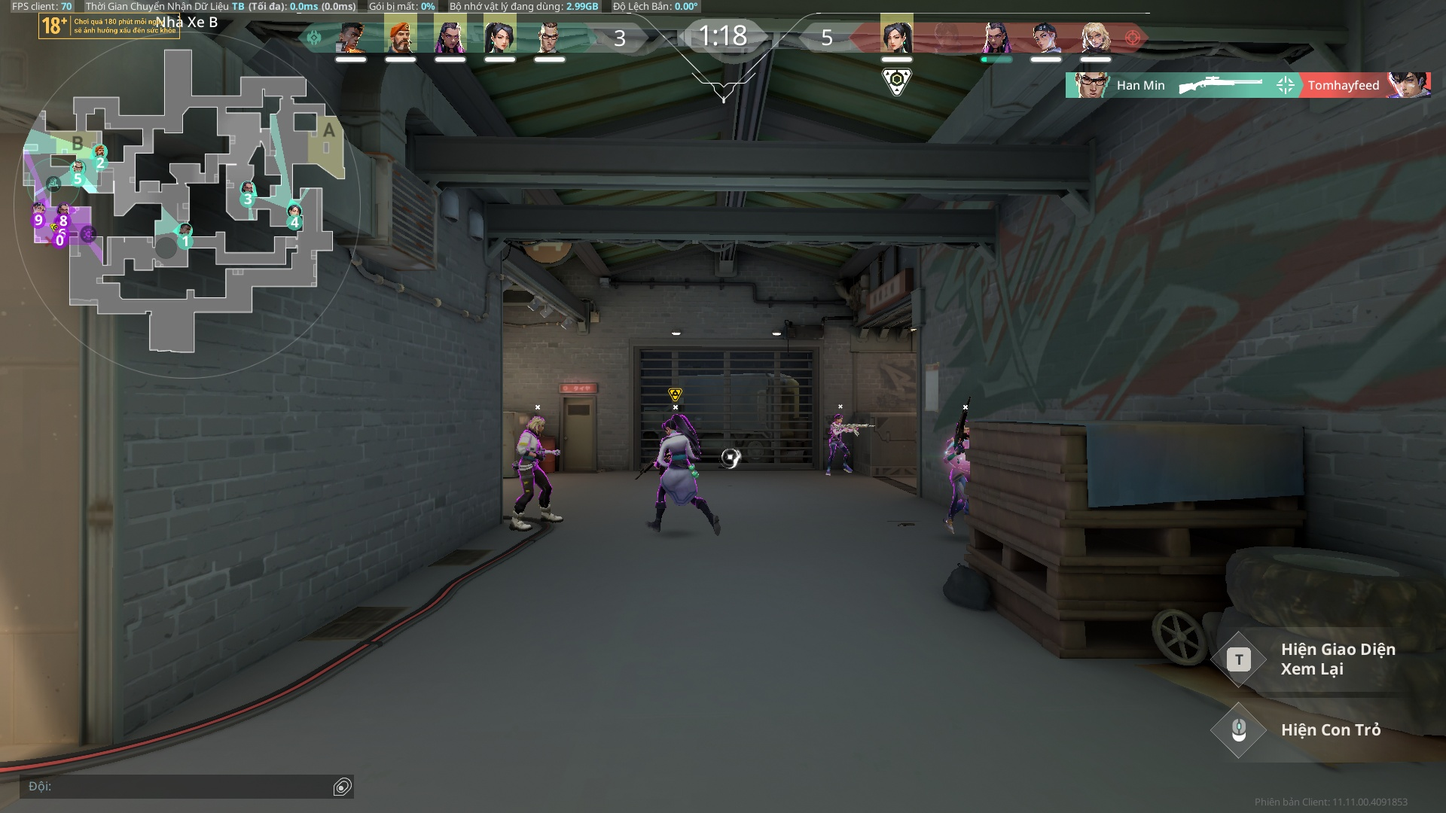body: (660, 434, 692, 462), (946, 436, 970, 473), (519, 431, 541, 464), (829, 421, 843, 440)
head: (660, 418, 679, 433), (529, 416, 544, 434), (955, 418, 971, 434), (834, 413, 843, 422)
